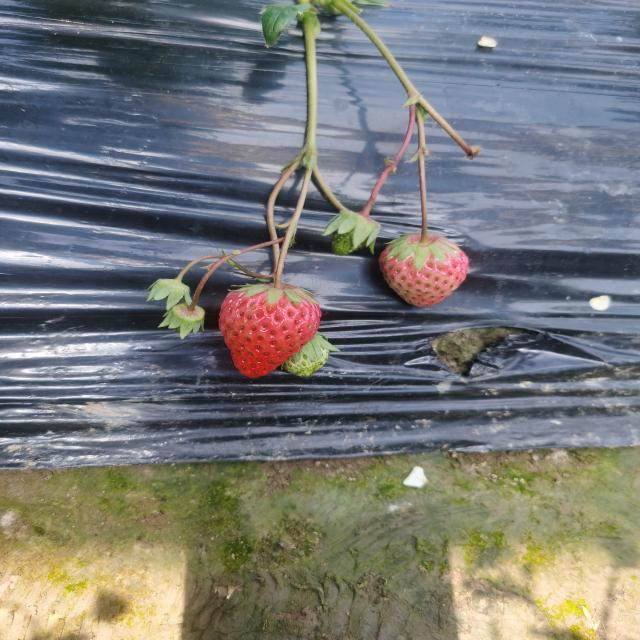stem: (273, 235, 293, 291), (418, 198, 430, 245)
strawberry: (219, 284, 322, 378), (379, 233, 470, 307)
